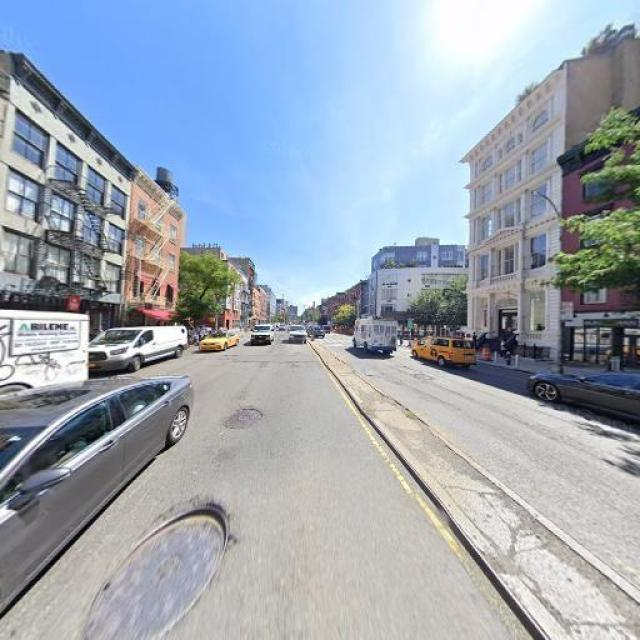Building: (1, 49, 122, 355), (557, 110, 640, 380), (470, 87, 550, 365), (127, 162, 175, 339)
